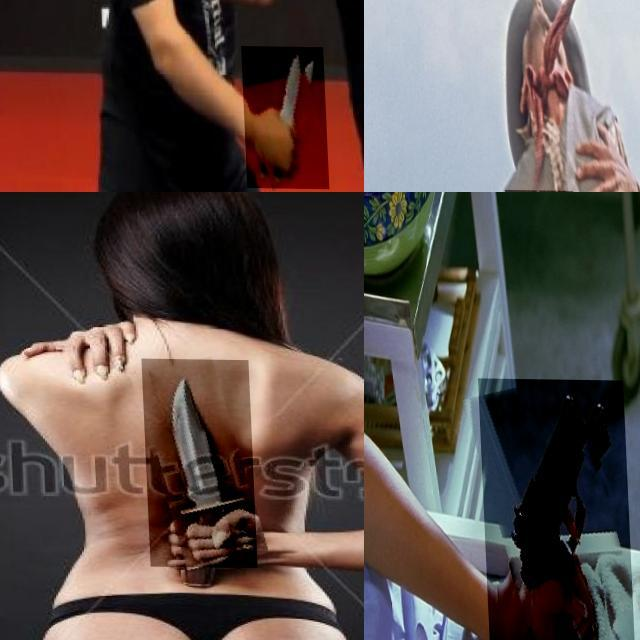-: (140, 358, 253, 567), (238, 45, 324, 188)
gun-knife-thesis - v11 Yolov5 augmented: (475, 377, 630, 640)
